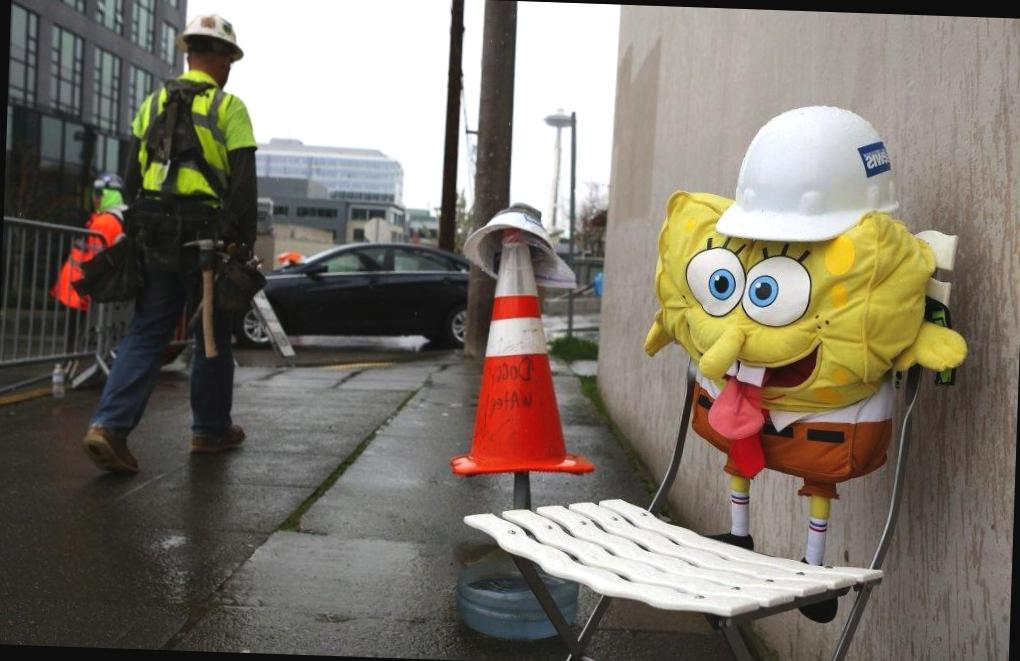helmet: (171, 11, 250, 75)
person: (66, 0, 275, 483)
